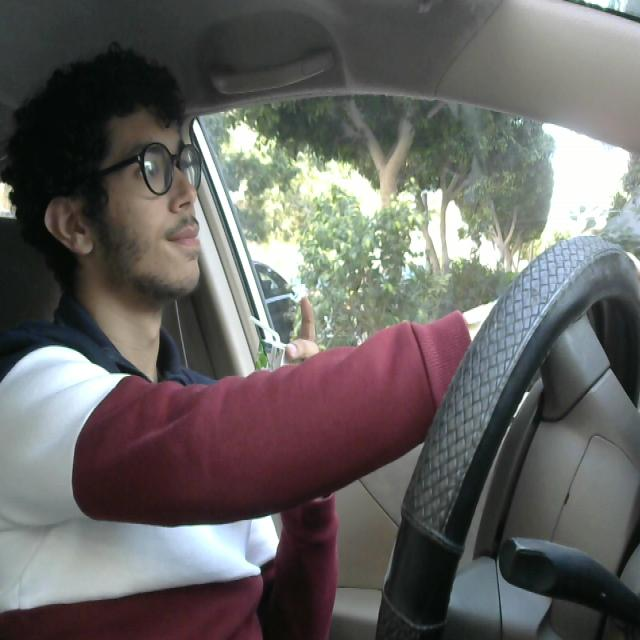drinking: (242, 307, 298, 441)
